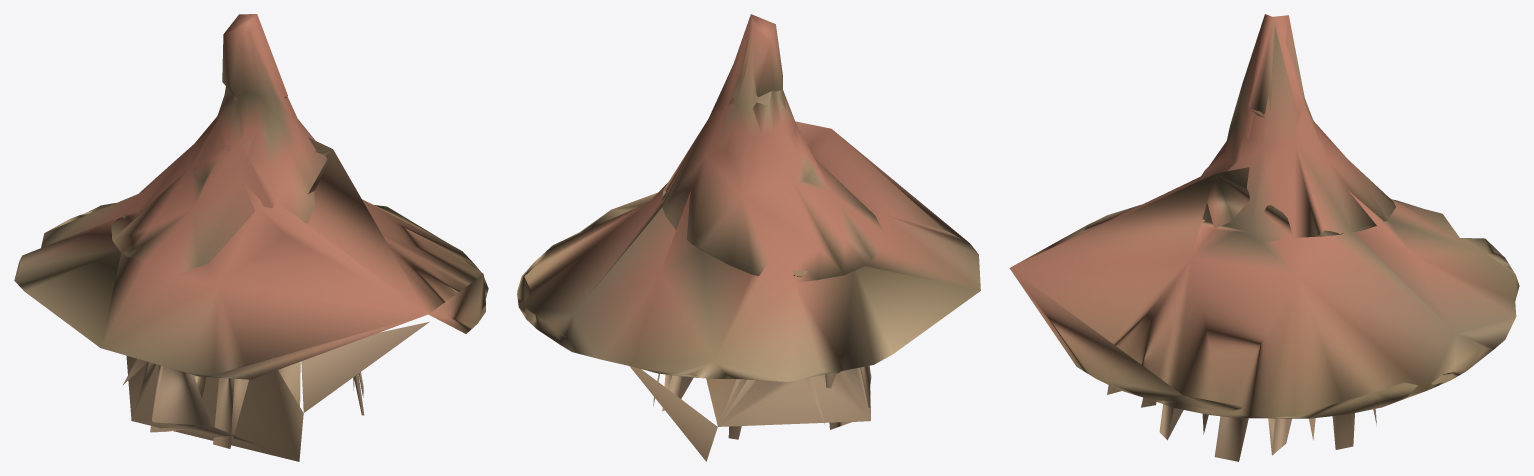
Rendered from bohio_puntiagudo_lejos.glb.
The picture shows the model from 3 angles, left to right: view 1: azimuth 30°, elevation 25°; view 2: azimuth 150°, elevation 25°; view 3: azimuth 270°, elevation 25°; orthographic projection. The views are drawn at different scales.
Visible parts, largest first — view 1: bohio_puntiagudo_lejos; view 2: bohio_puntiagudo_lejos; view 3: bohio_puntiagudo_lejos.
Part boxes in pixels (<box>): bohio_puntiagudo_lejos: <box>14,14,488,461</box>; bohio_puntiagudo_lejos: <box>517,14,980,461</box>; bohio_puntiagudo_lejos: <box>1009,14,1519,461</box>.
Bounding box in the file's own units: 5.92 × 5.52 × 6.31.
